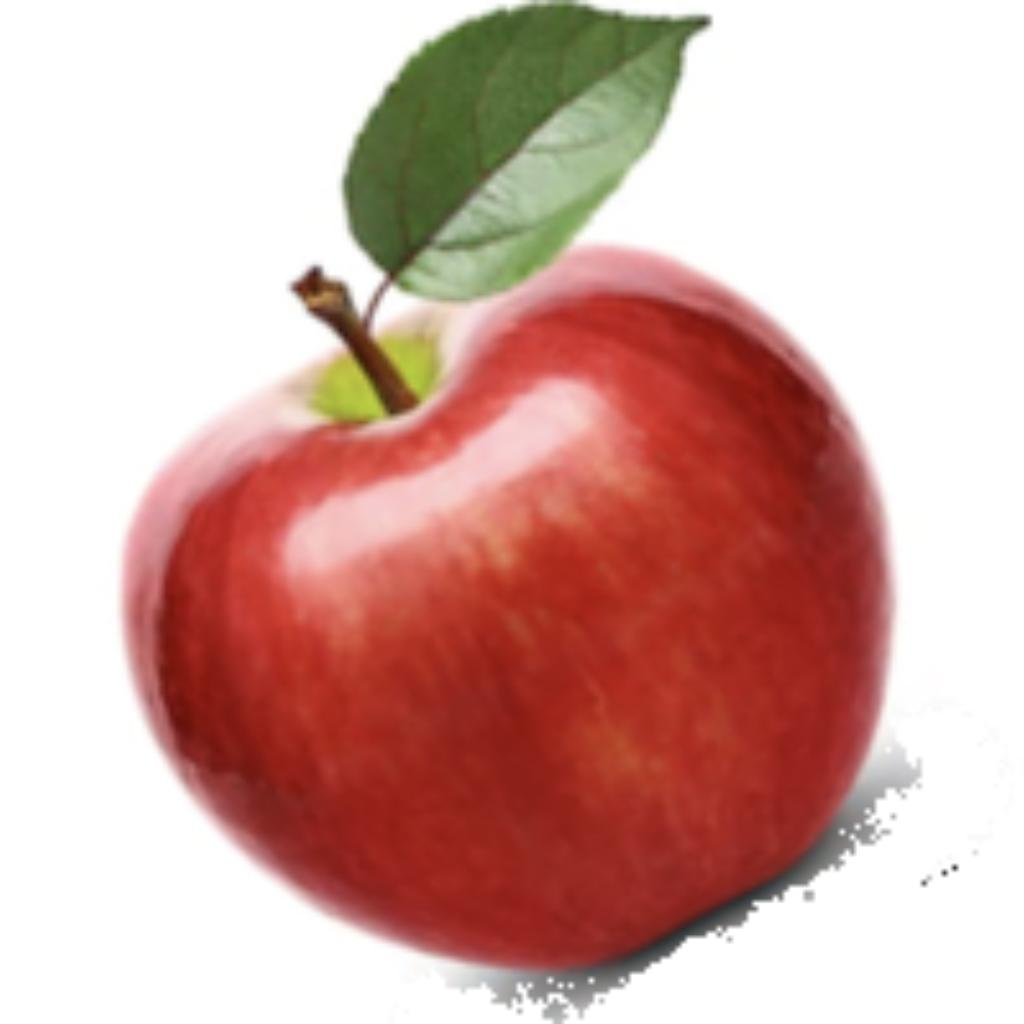apple: (113, 0, 922, 1019)
